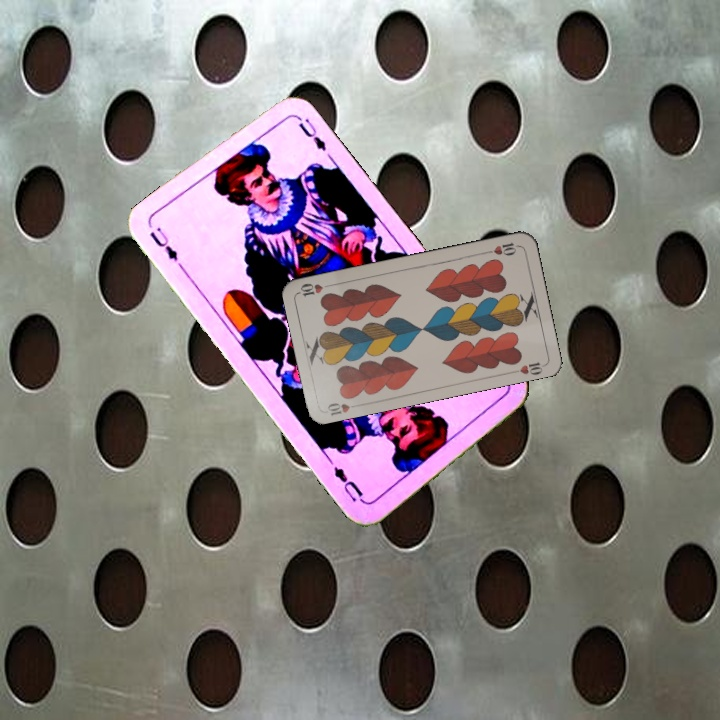EU: (145, 223, 181, 263)
H10: (481, 239, 521, 258), (323, 399, 362, 418)
